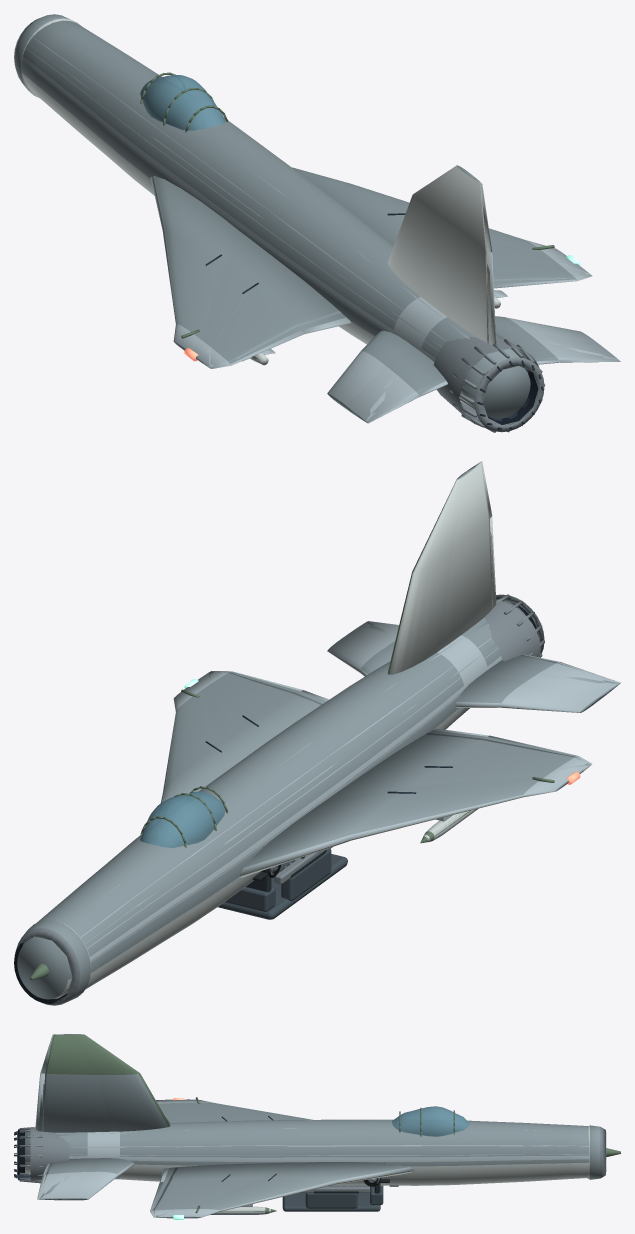
Rendered from mig21.glb.
The picture shows the model from 3 angles, top to bottom: view 1: azimuth 30°, elevation 25°; view 2: azimuth 150°, elevation 25°; view 3: azimuth 270°, elevation 25°; orthographic projection. The views are drawn at different scales.
Parts seen in each view (by area): view 1: Airframe shell mesh, Airframe shell.001 mesh, Airframe shell.002 mesh, Canopy glass, Canopy glass.001, Canopy glass.002; view 2: Airframe shell mesh, Airframe shell.001 mesh, Airframe shell.002 mesh, Cockpit shell mesh, Canopy glass, Canopy glass.001; view 3: Airframe shell mesh, Airframe shell.001 mesh, Cockpit shell mesh, Airframe shell.002 mesh, Canopy glass, Canopy glass.001, Canopy glass.002, Store_1 mesh.
Boxes of the visible parts, x1=… form: Airframe shell mesh: x1=16, y1=14, x2=597, y2=432; Airframe shell.001 mesh: x1=14, y1=16, x2=620, y2=432; Airframe shell.002 mesh: x1=19, y1=14, x2=618, y2=431; Canopy glass: x1=140, y1=75, x2=225, y2=130; Canopy glass.001: x1=140, y1=75, x2=224, y2=130; Canopy glass.002: x1=143, y1=77, x2=221, y2=129; Airframe shell mesh: x1=14, y1=466, x2=610, y2=1004; Airframe shell.001 mesh: x1=15, y1=462, x2=620, y2=1005; Airframe shell.002 mesh: x1=14, y1=462, x2=617, y2=1005; Cockpit shell mesh: x1=218, y1=846, x2=347, y2=919; Canopy glass: x1=140, y1=791, x2=225, y2=848; Canopy glass.001: x1=140, y1=792, x2=224, y2=847; Airframe shell mesh: x1=14, y1=1034, x2=618, y2=1219; Airframe shell.001 mesh: x1=17, y1=1034, x2=620, y2=1218; Cockpit shell mesh: x1=282, y1=1162, x2=389, y2=1211; Airframe shell.002 mesh: x1=17, y1=1035, x2=620, y2=1217; Canopy glass: x1=392, y1=1106, x2=468, y2=1136; Canopy glass.001: x1=393, y1=1106, x2=467, y2=1136; Canopy glass.002: x1=391, y1=1107, x2=469, y2=1127; Store_1 mesh: x1=210, y1=1206, x2=270, y2=1214.
Size of the model in its own units: 7.28 by 4.64 by 15.66.
